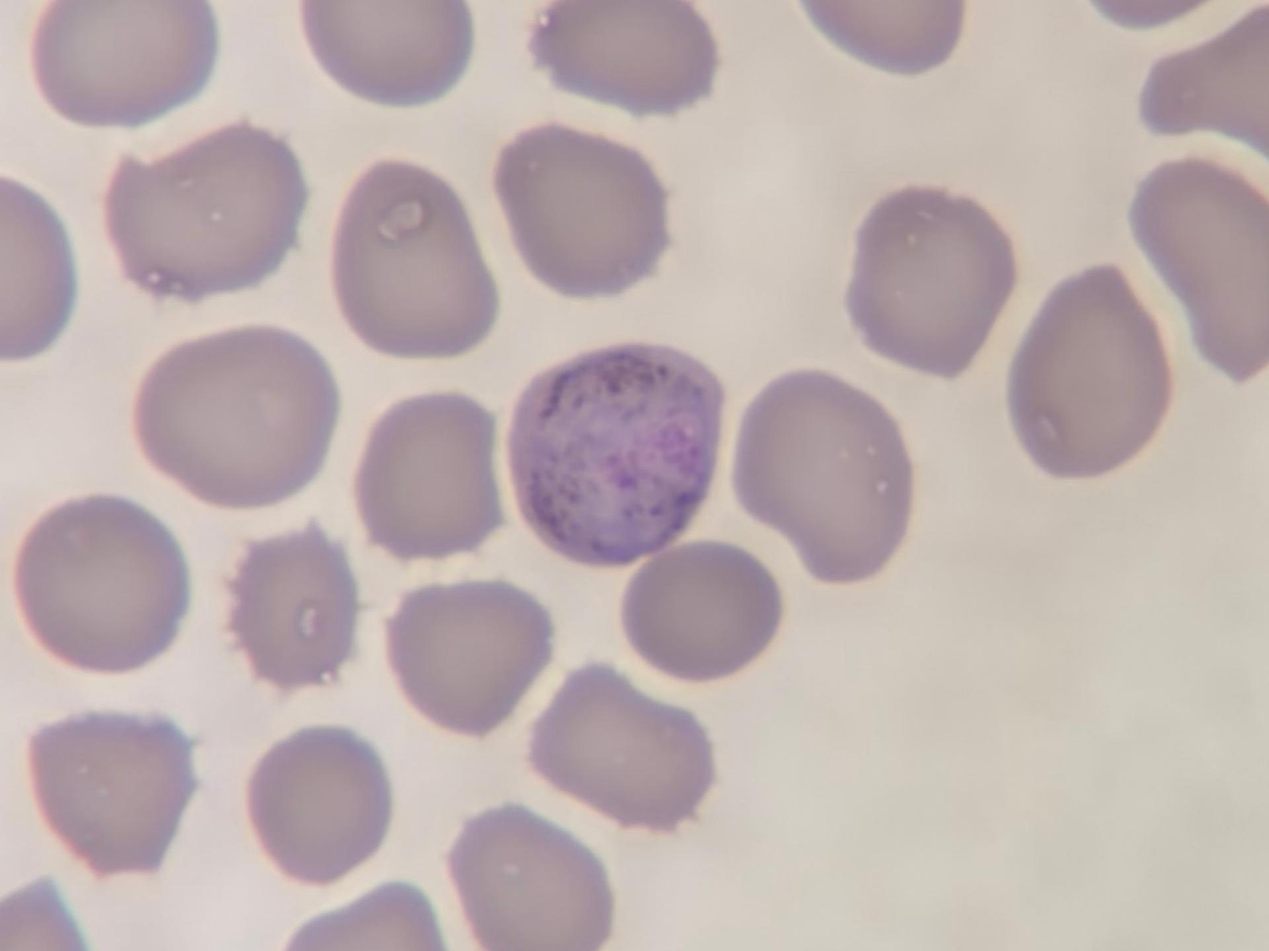Infected: (505, 342, 731, 572)
Uninfected: (734, 366, 911, 578), (132, 331, 338, 512), (1013, 261, 1168, 478), (106, 129, 300, 302), (335, 157, 502, 355), (842, 184, 1011, 377), (531, 657, 714, 834), (489, 126, 671, 298), (1132, 155, 1269, 374), (15, 501, 191, 669), (29, 712, 195, 877), (381, 582, 554, 731), (445, 798, 611, 951), (37, 0, 222, 137), (354, 397, 504, 559), (621, 534, 776, 684), (247, 728, 397, 883), (225, 532, 361, 697), (533, 0, 718, 117), (304, 0, 478, 115)
